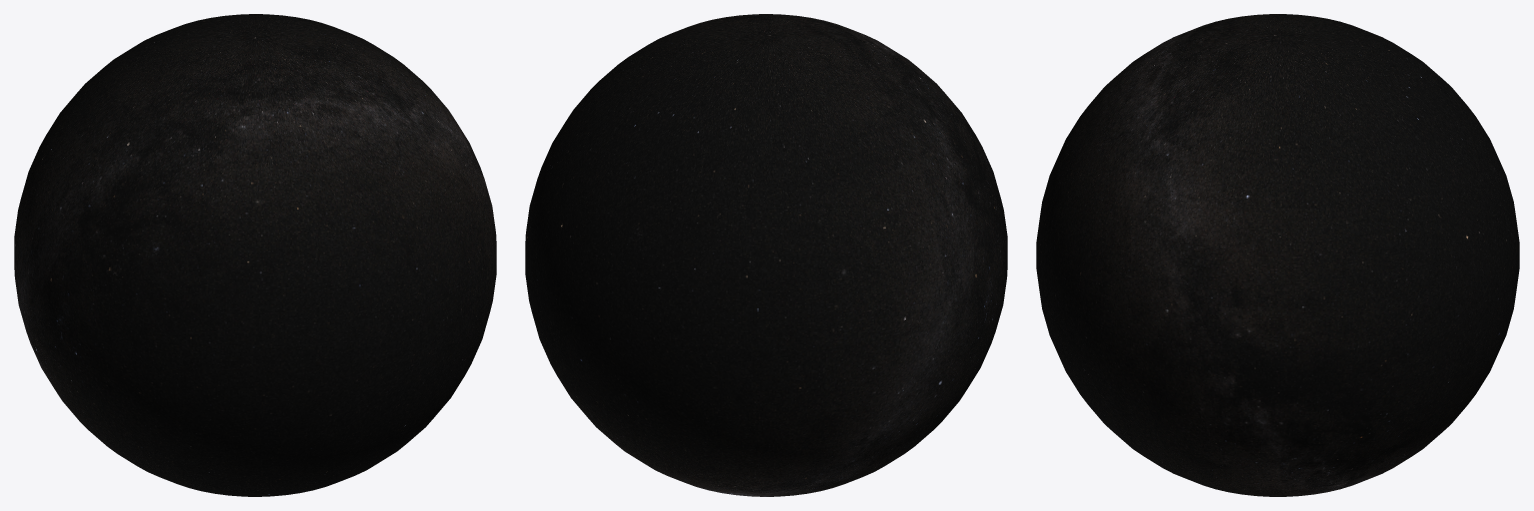
Rendered from skybox.obj.
3 renders of one model, left to right at view 1: azimuth 30°, elevation 25°; view 2: azimuth 150°, elevation 25°; view 3: azimuth 270°, elevation 25°, orthographic.
Parts seen in each view (by area): view 1: Sphere001; view 2: Sphere001; view 3: Sphere001.
Part boxes in pixels (x1=…): Sphere001: x1=14, y1=14, x2=496, y2=496; Sphere001: x1=525, y1=14, x2=1007, y2=496; Sphere001: x1=1036, y1=14, x2=1519, y2=496.
Bounding box in the file's own units: 76.42 × 76.72 × 76.57.
